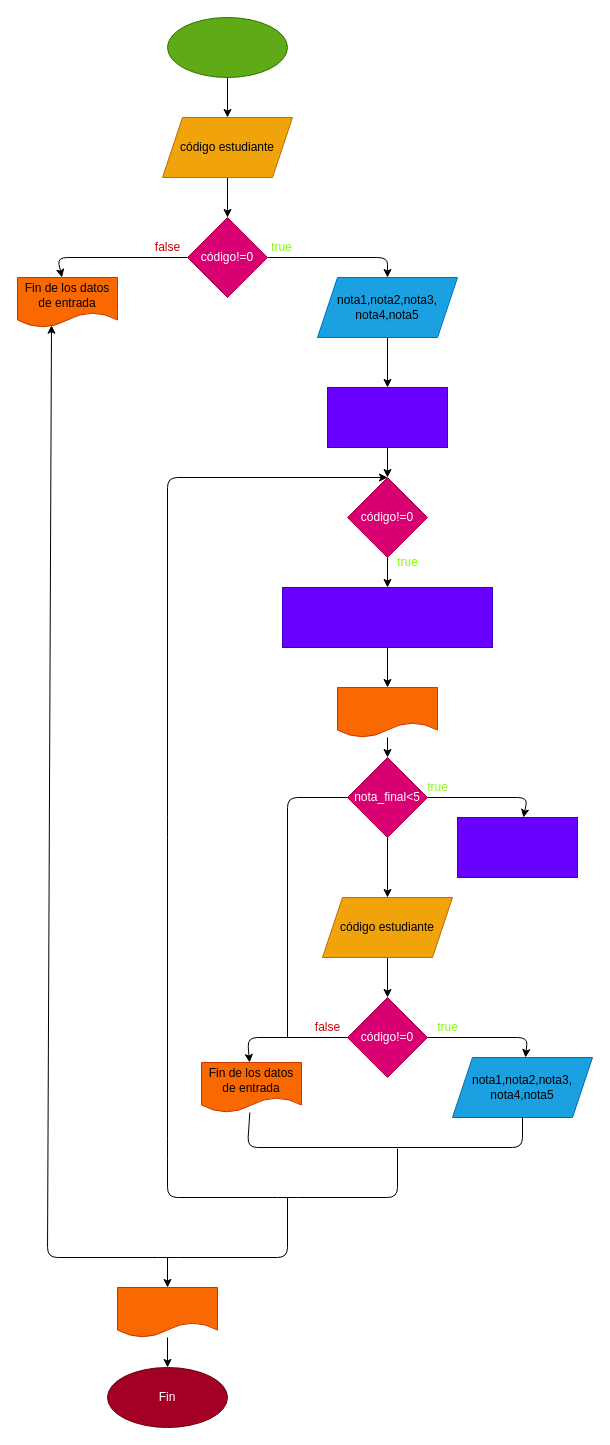
Some shapes in this 610 by 1445 pixel diagram are drawn without their labels. Here are the shapes that lost their labels. From the top down, the box of each, then its label:
(166, 16, 288, 78): Inicio
(326, 386, 448, 448): reprobados=0
(282, 586, 492, 648): nota_final=(nota1+nota2+nota3+nota4+nota5)/5
(336, 686, 438, 738): nota final
(456, 816, 578, 878): reprobados= reprobados +1
(116, 1286, 218, 1338): reprobados
